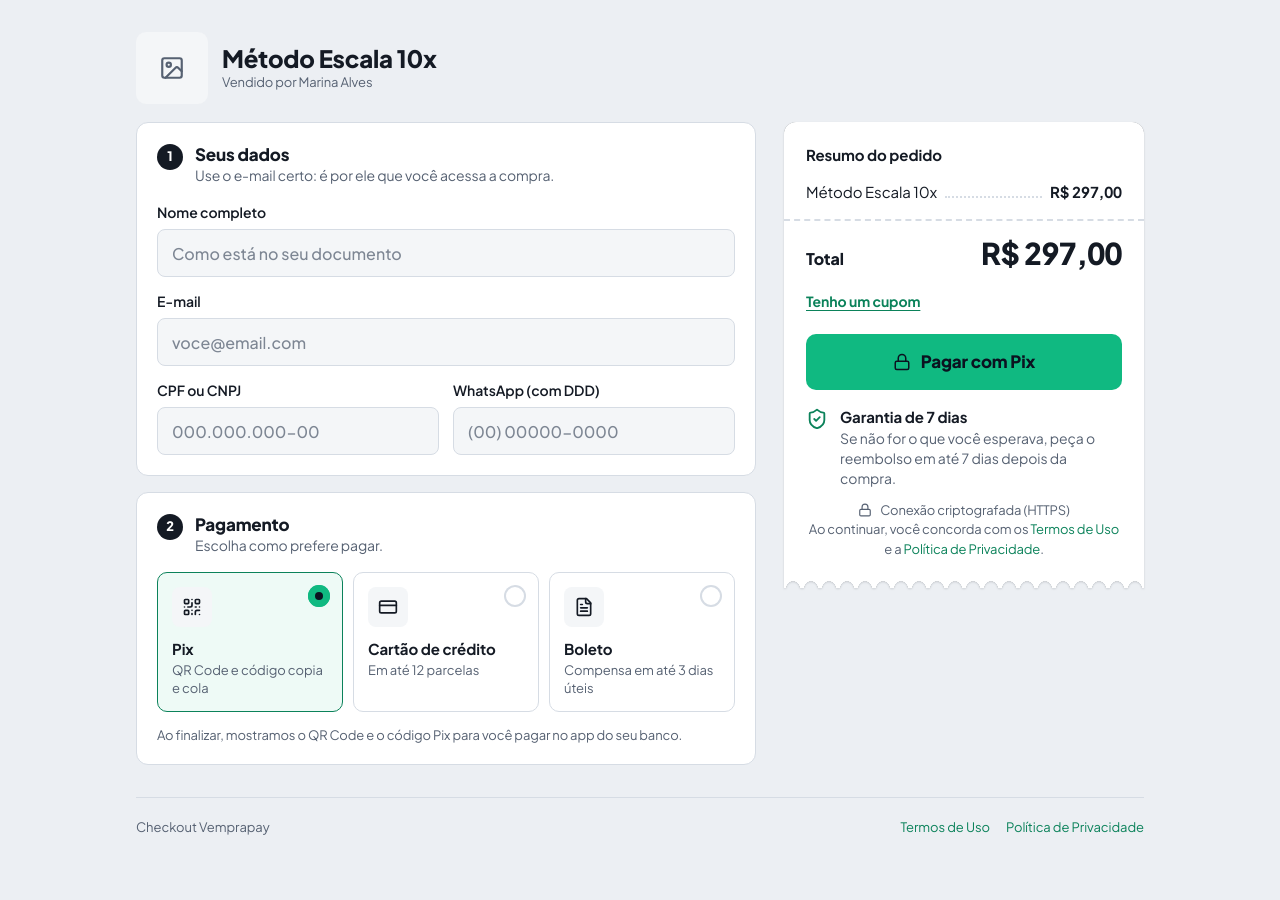
Test: checkout público: preenchimento › só mostra o erro do campo depois que a pessoa sai dele
expect the heading "Método Escala 10x" is shown: met, box x1=222 y1=43 x2=437 y2=73
expect the text "Informe um e-mail válido" is not shown: met
Type "maria" into the field labelled "E-mail" at (446, 342), box x1=157 y1=318 x2=735 y2=366
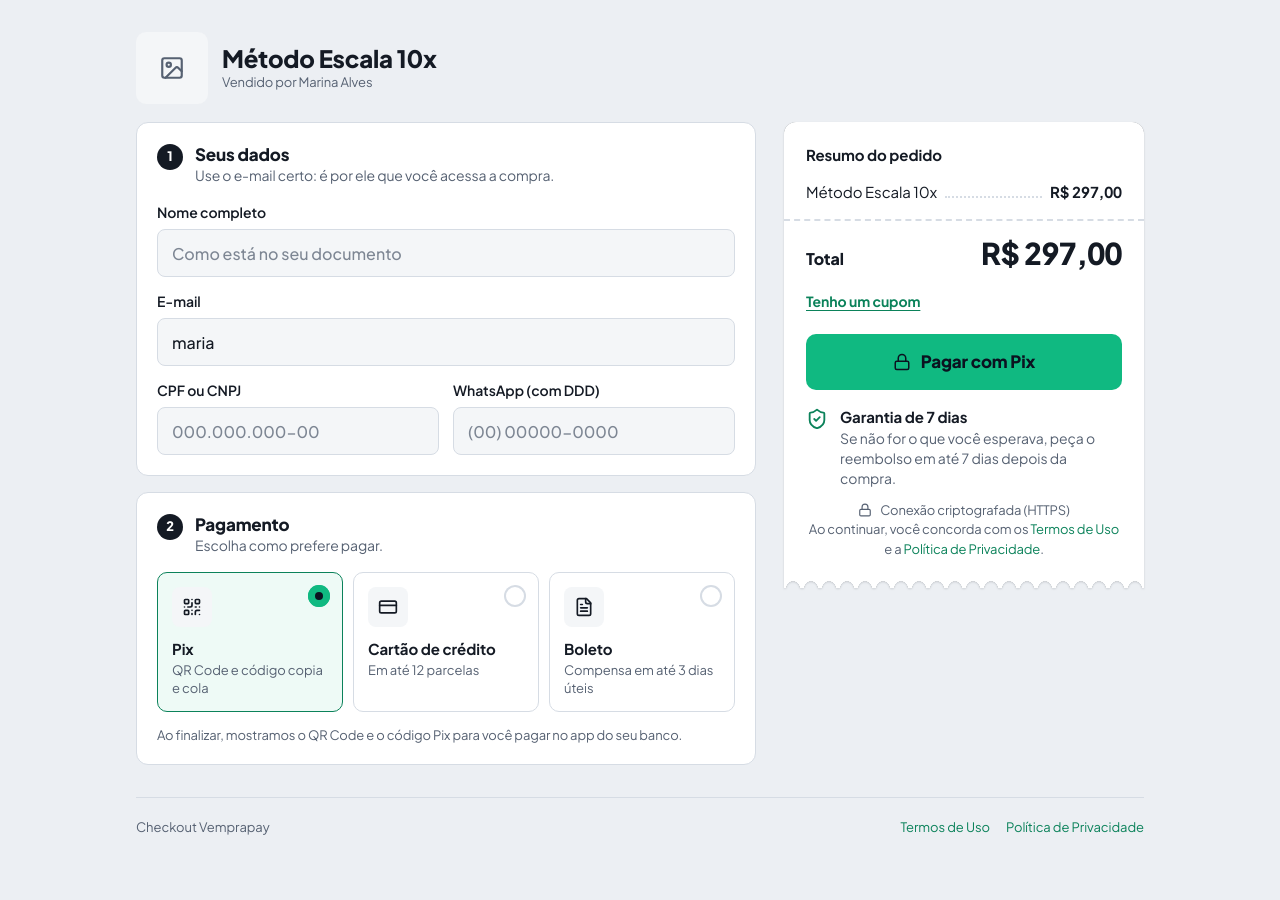
expect the text "Informe um e-mail válido" is not shown: met
Leave the field labelled "E-mail", box x1=157 y1=318 x2=735 y2=366
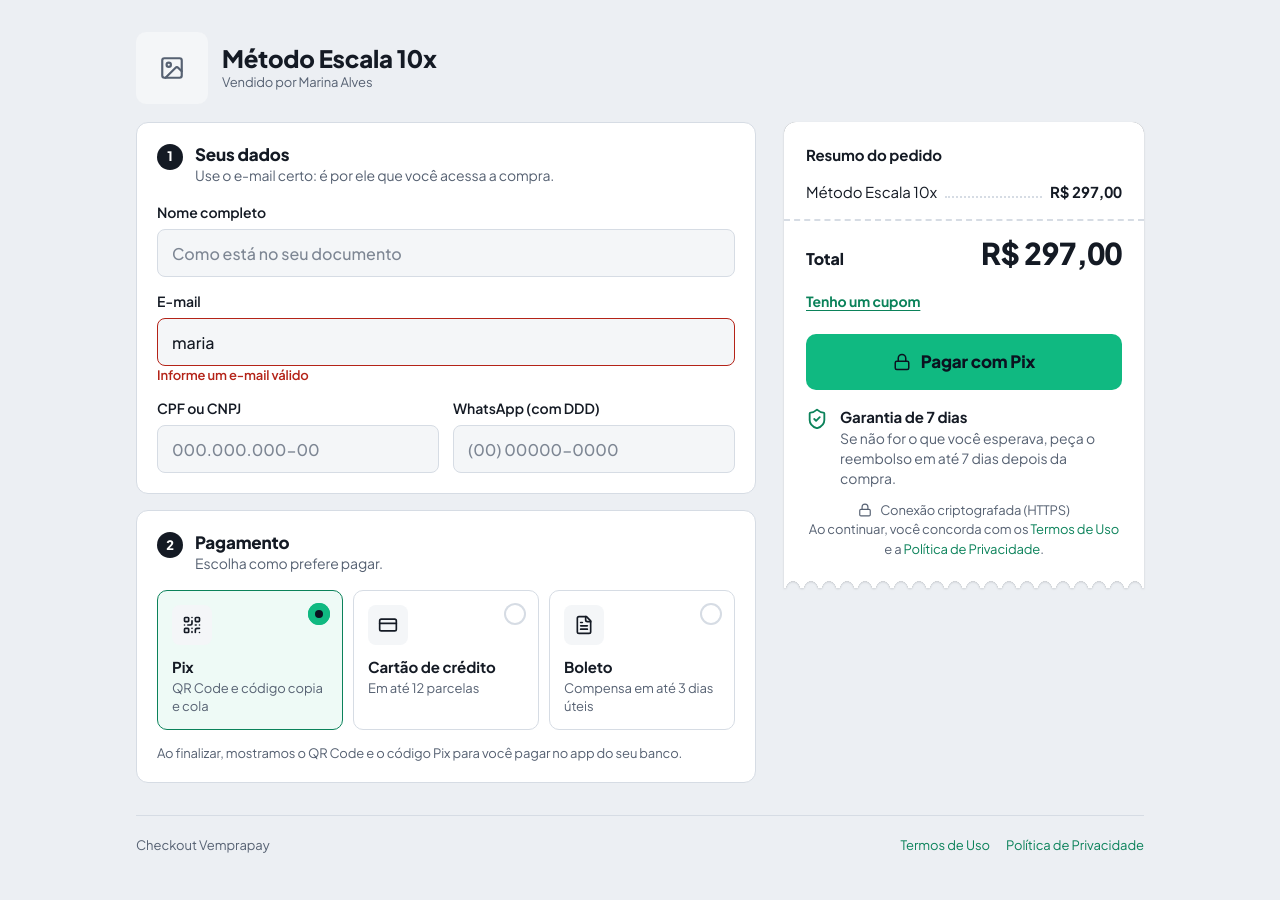
expect the text "Informe um e-mail válido" is shown: met, box x1=157 y1=367 x2=309 y2=383
